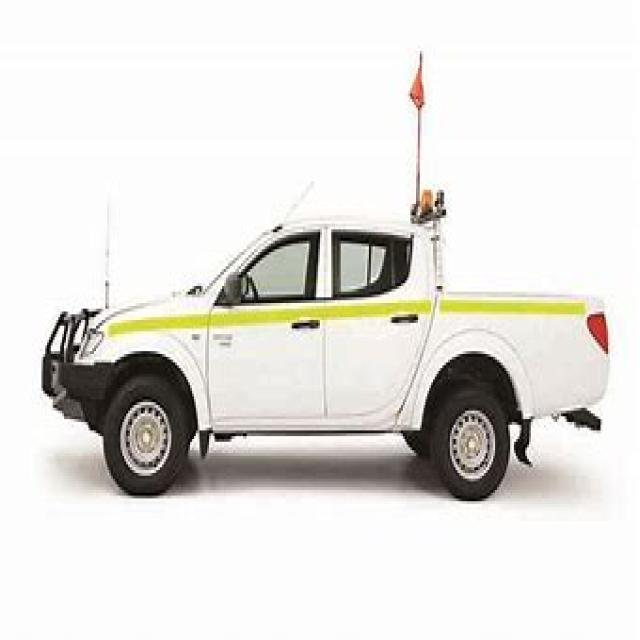light_vehicle: (40, 190, 620, 515)
